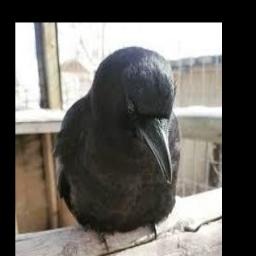Crow: (52, 46, 181, 254)
